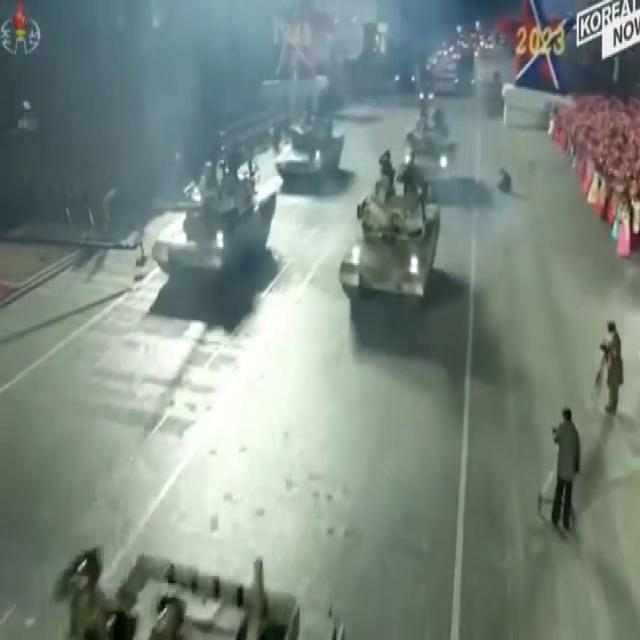north tank: (135, 122, 287, 311), (345, 148, 458, 338), (266, 75, 350, 203), (397, 92, 482, 197)
